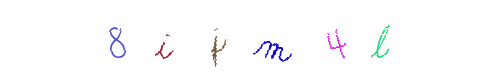4: (296, 0, 376, 80)
8: (154, 0, 234, 80)
I: (167, 0, 247, 80)
J: (176, 0, 256, 80)
L: (341, 0, 421, 80)
M: (204, 0, 284, 80)
